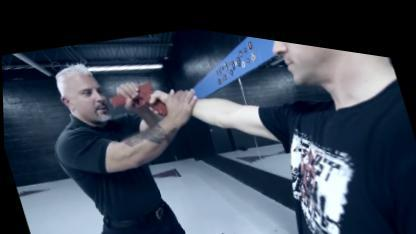pistol: (103, 66, 169, 124)
